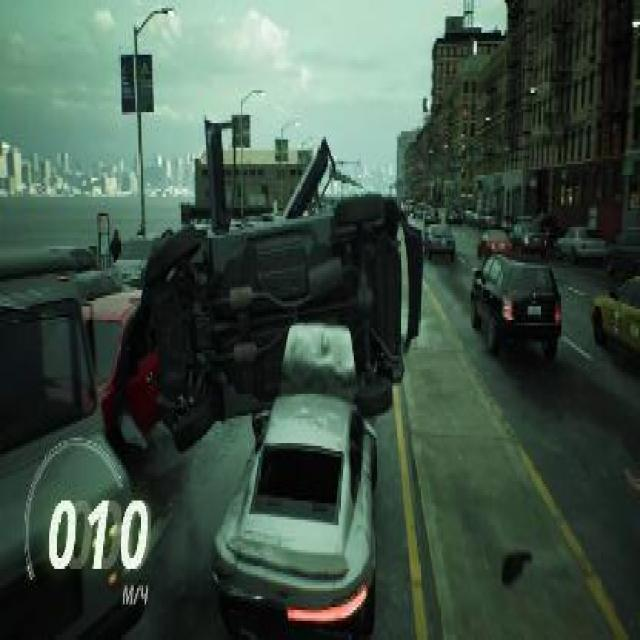accident: (103, 150, 426, 638)
